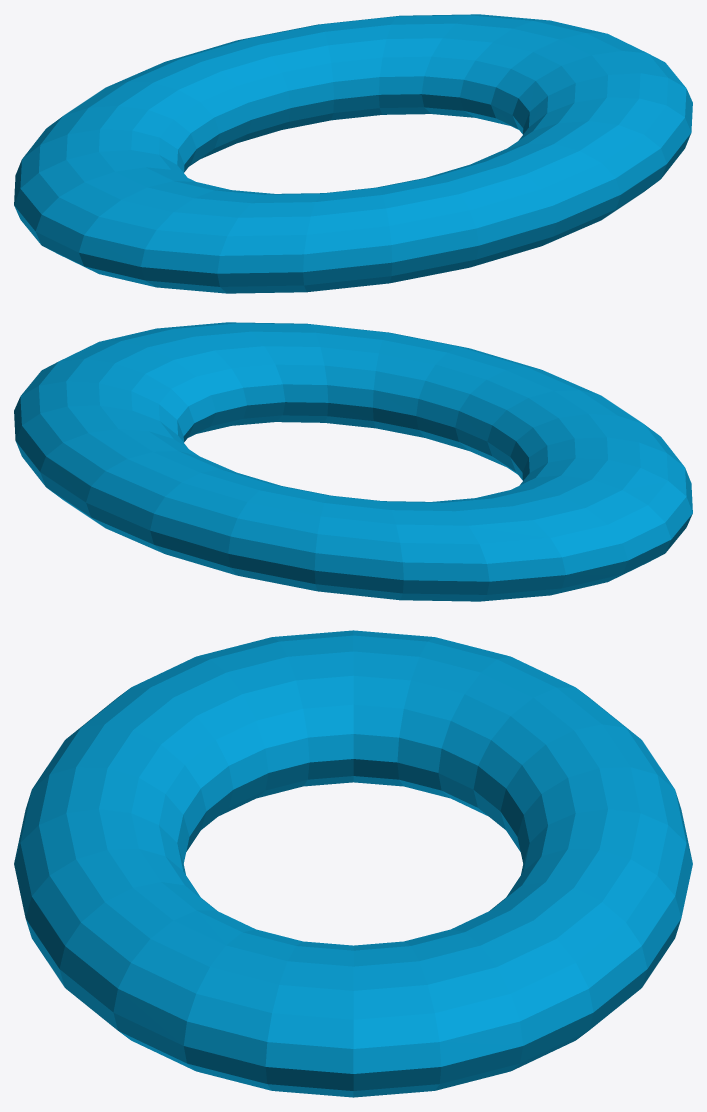
Rendered from tinker.obj.
The picture shows the model from 3 angles, top to bottom: view 1: azimuth 30°, elevation 25°; view 2: azimuth 150°, elevation 25°; view 3: azimuth 270°, elevation 25°; orthographic projection. The views are drawn at different scales.
Visible parts, largest first — view 1: obj_0; view 2: obj_0; view 3: obj_0.
Boxes of the visible parts, box(x1,y1,x2,y2) form: obj_0: box(14, 14, 692, 293); obj_0: box(14, 322, 692, 601); obj_0: box(14, 630, 692, 1097).
Bounding box in the file's own units: 41 × 5 × 28.
